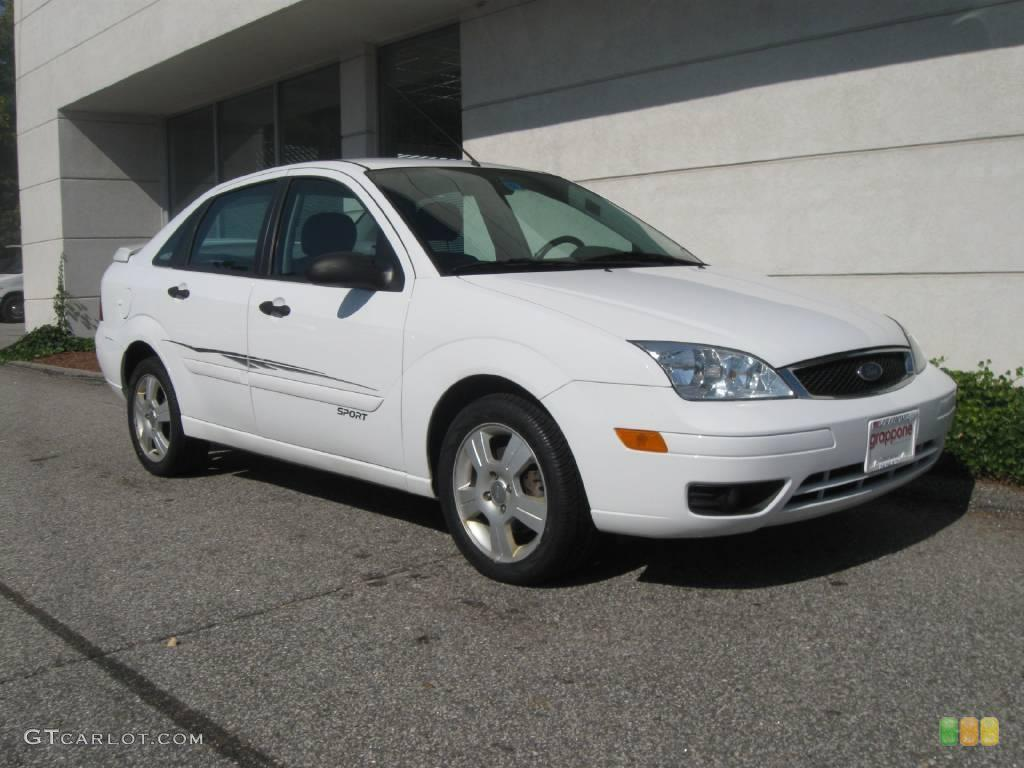Car: (71, 135, 998, 615)
